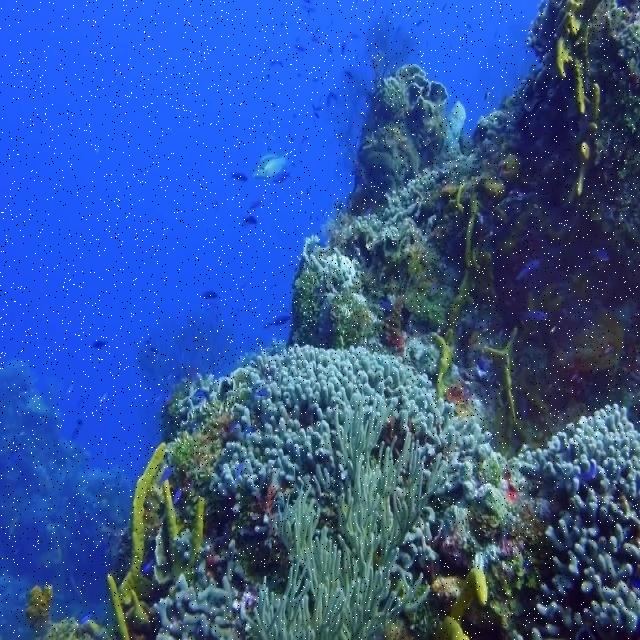aquatic plants: (246, 404, 451, 639)
reefs: (212, 344, 495, 502), (518, 404, 639, 639)
